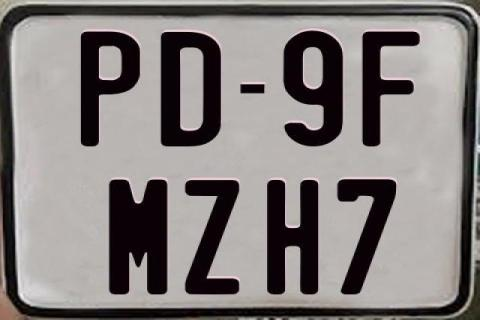0: (280, 30, 345, 146), (334, 178, 395, 298)
D: (160, 29, 224, 149)
F: (361, 31, 423, 150)
H: (266, 178, 319, 294)
M: (107, 179, 167, 297)
P: (78, 31, 139, 149)
Z: (185, 179, 245, 299)
